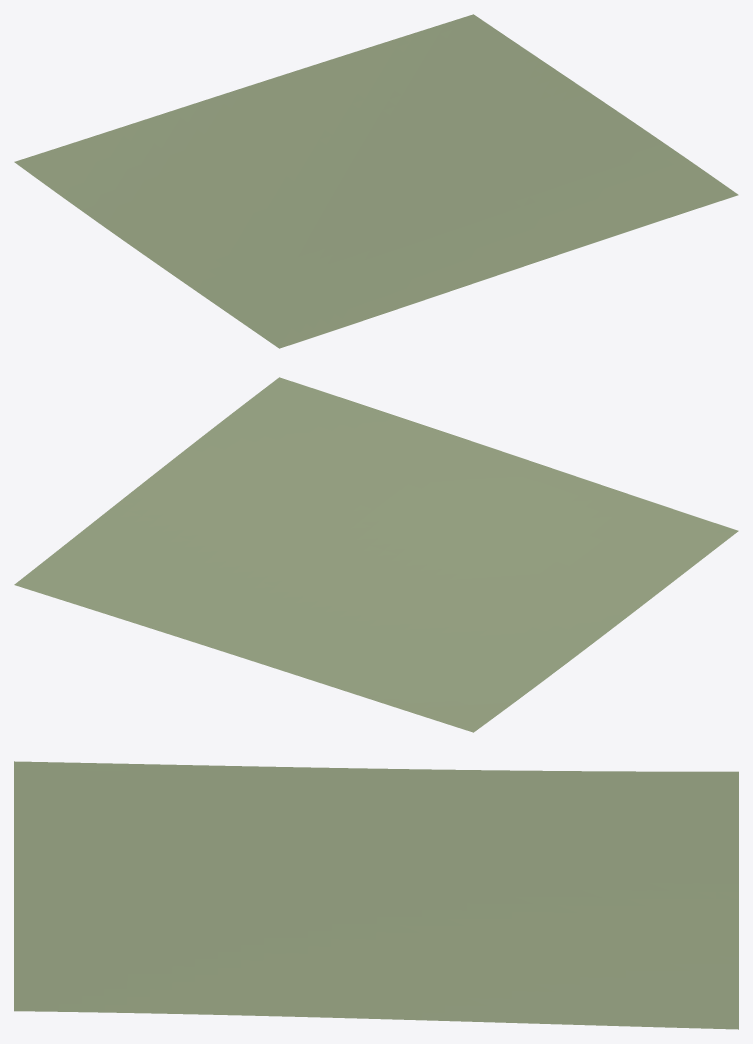
The model's file is expanse-10-6.glb.
3 views of the same model, one above another, from view 1: azimuth 30°, elevation 25°; view 2: azimuth 150°, elevation 25°; view 3: azimuth 270°, elevation 25° (orthographic). The views are drawn at different scales.
Parts seen in each view (by area): view 1: expanse-10-6; view 2: expanse-10-6; view 3: expanse-10-6.
Part boxes in pixels (x1=…): expanse-10-6: x1=14, y1=14, x2=738, y2=348; expanse-10-6: x1=14, y1=377, x2=738, y2=732; expanse-10-6: x1=14, y1=761, x2=738, y2=1029.
Bounding box in the file's own units: 256 × 26.07 × 256.
